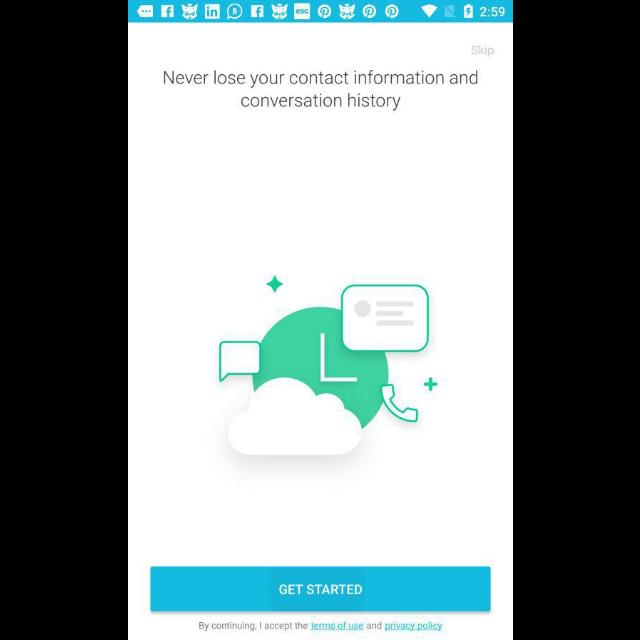image: (218, 274, 437, 456)
text: (163, 70, 477, 111), (198, 620, 442, 632), (471, 46, 494, 59)
textbutton: (150, 566, 490, 612)
uppertaskbar: (128, 1, 512, 23)
